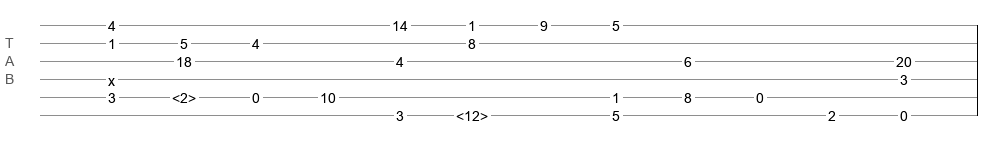0: (252, 90, 260, 100), (756, 90, 764, 100), (900, 108, 908, 118)
1: (108, 36, 116, 46), (468, 18, 476, 28), (612, 90, 620, 100)
10: (320, 90, 336, 100)
14: (392, 18, 408, 28)
18: (176, 54, 192, 64)
2: (828, 108, 836, 118)
20: (896, 54, 912, 64)
3: (108, 90, 116, 100), (396, 108, 404, 118), (900, 72, 908, 82)
4: (108, 18, 116, 28), (252, 36, 260, 46), (396, 54, 404, 64)
5: (180, 36, 188, 46), (612, 108, 620, 118), (612, 18, 620, 28)
6: (684, 54, 692, 64)
8: (468, 36, 476, 46), (684, 90, 692, 100)
9: (540, 18, 548, 28)
harmonic: (456, 108, 488, 118), (172, 90, 196, 100)
x: (108, 73, 115, 81)
